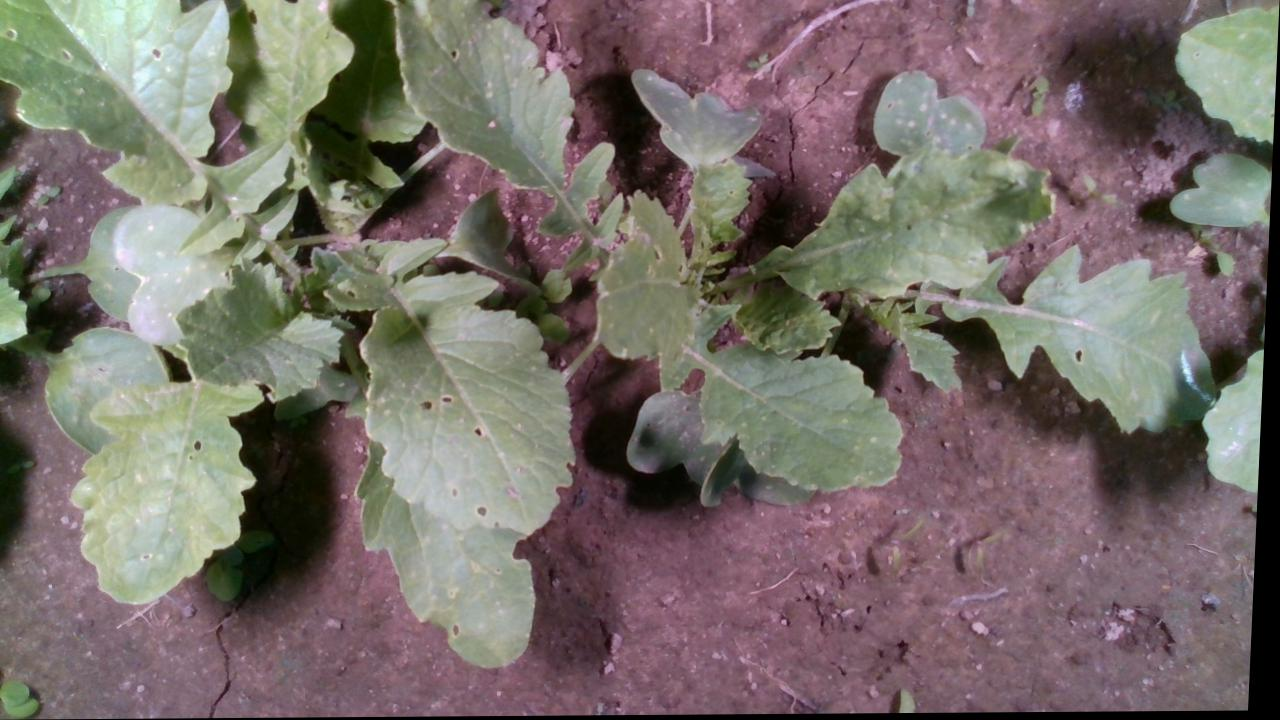weed: (1078, 168, 1134, 210), (891, 514, 929, 575), (973, 528, 1015, 573)
